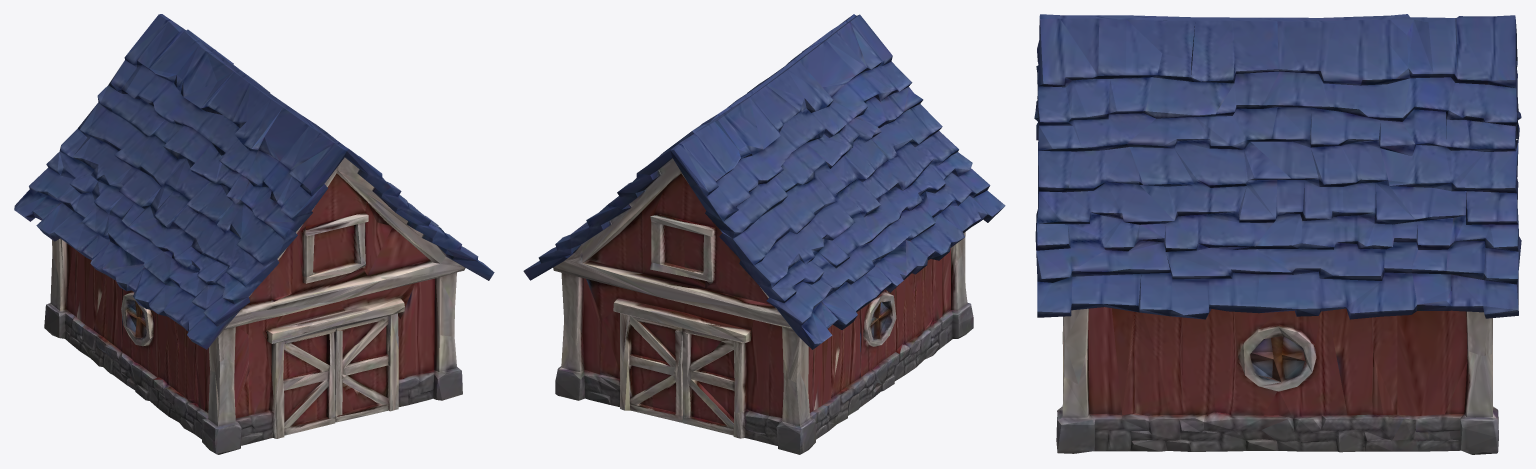
Rendered from oc_barn_small.glb.
3 views of the same model, side by side, from view 1: azimuth 30°, elevation 25°; view 2: azimuth 150°, elevation 25°; view 3: azimuth 270°, elevation 25° (orthographic). The views are drawn at different scales.
Parts seen in each view (by area): view 1: W_barn_small; view 2: W_barn_small; view 3: W_barn_small.
Part boxes in pixels (bbox=[...]): W_barn_small: bbox=[14, 14, 494, 454]; W_barn_small: bbox=[523, 14, 1005, 454]; W_barn_small: bbox=[1034, 14, 1521, 454].
Bounding box in the file's own units: 8.24 × 7.38 × 8.99.
1 material, 1 textured.
